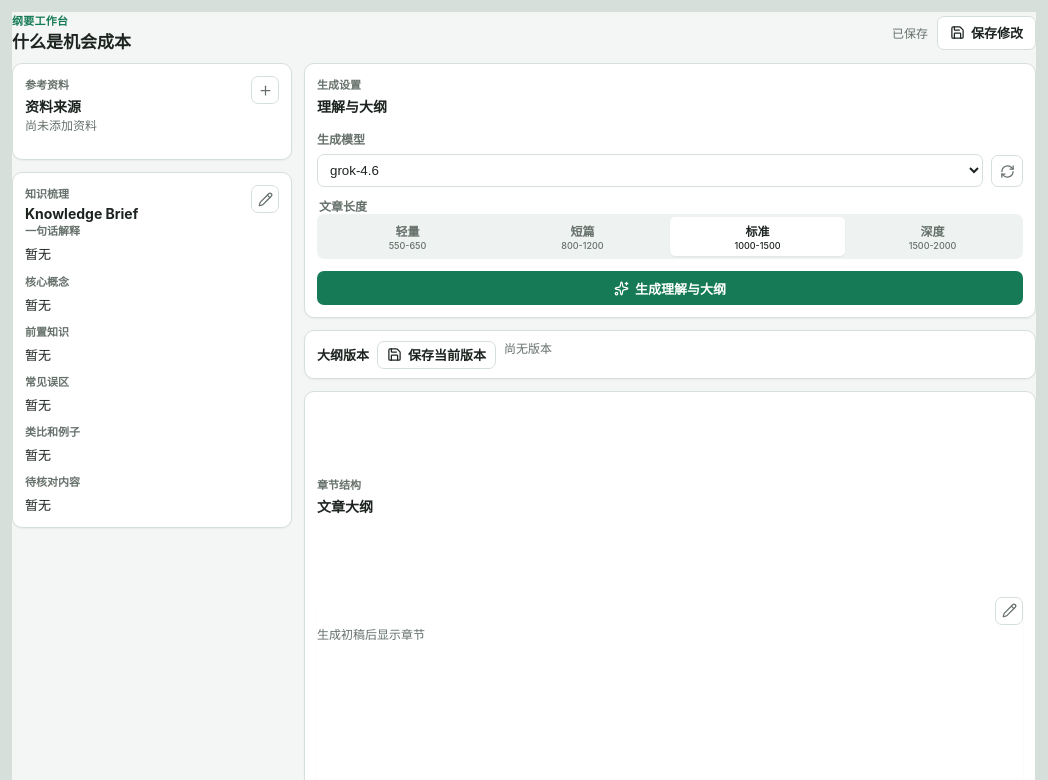
Test: OutlineWorkspace › switches to the server default when the current model disappears
Click the button named "刷新可用模型" at (1007, 171), box [991,155,1023,187]
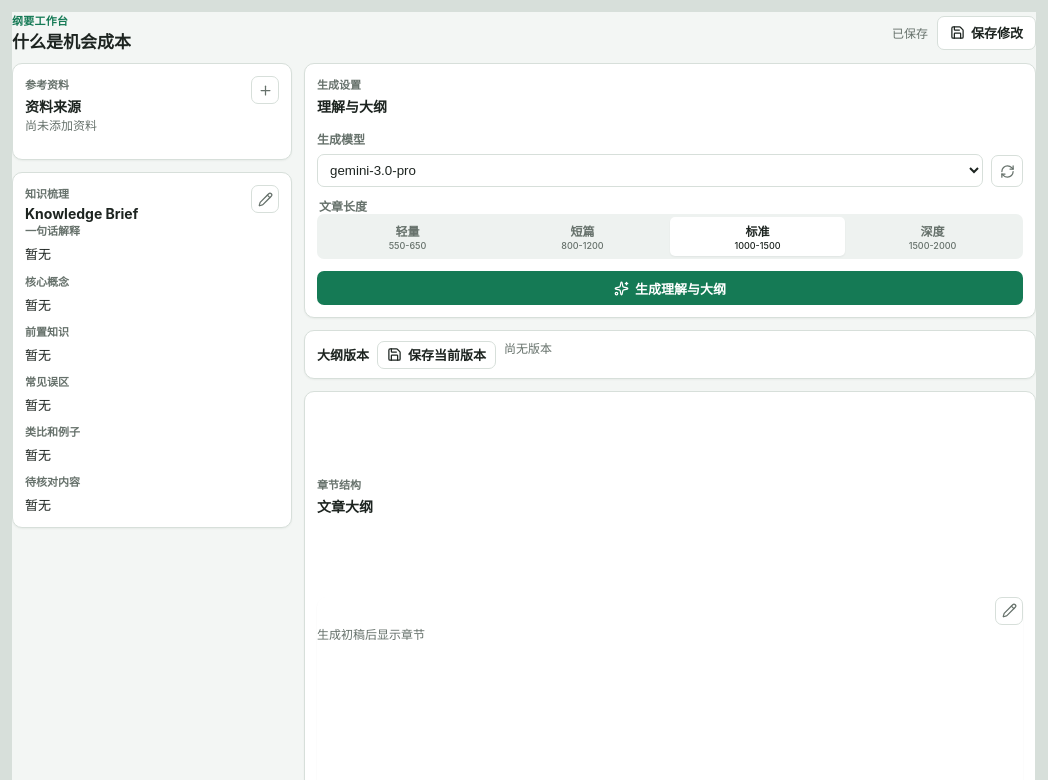
Expected: the dropdown labelled "生成模型" shows "gemini-3.0-pro", [317,154,983,187]
